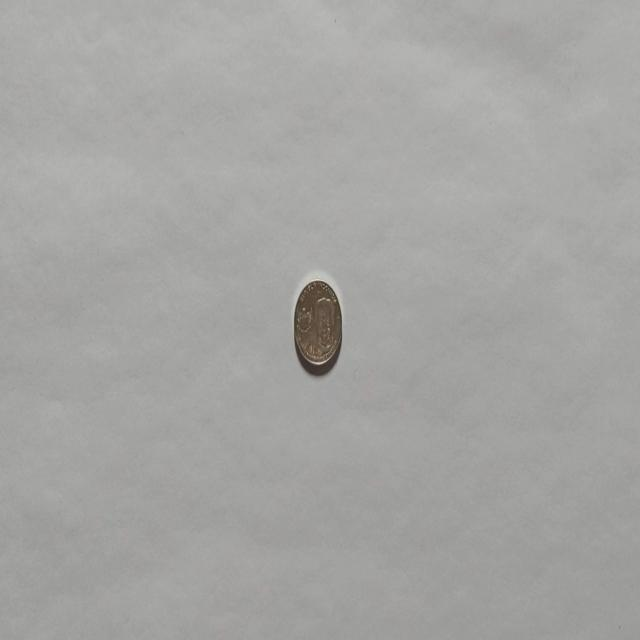seratus rupiah: (292, 277, 342, 373)
